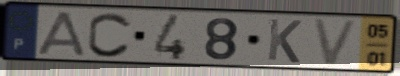4: (151, 13, 188, 62)
8: (204, 16, 240, 62)
A: (35, 9, 88, 58)
C: (85, 10, 134, 59)
K: (265, 17, 304, 65)
V: (310, 17, 362, 68)
